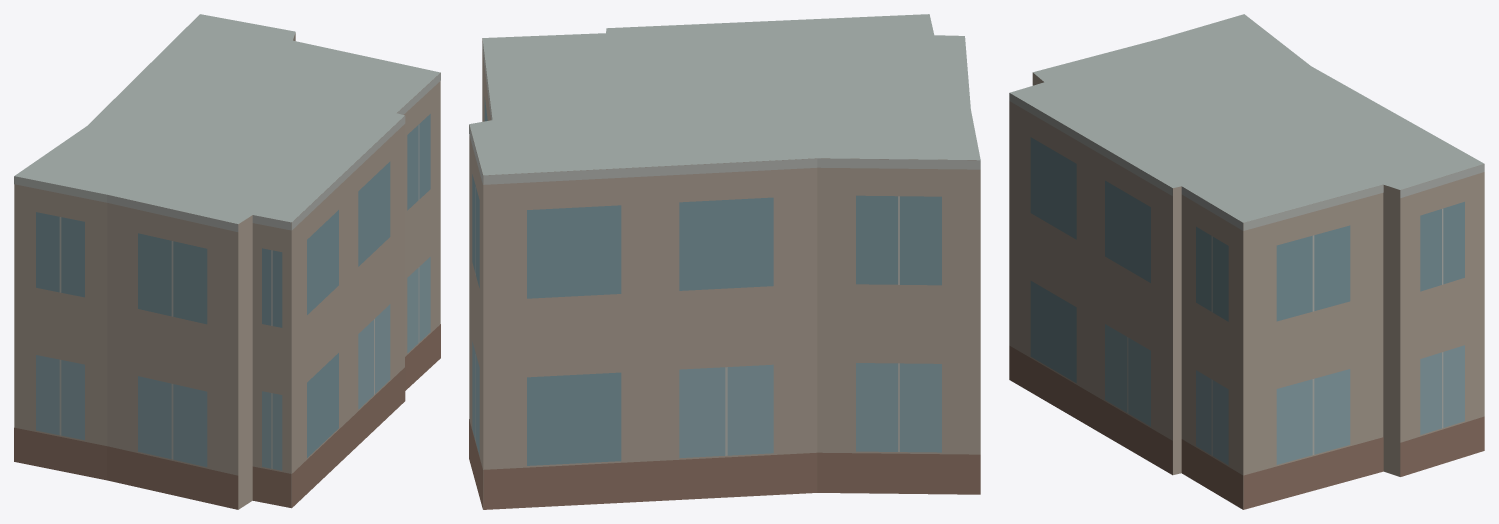
The model's file is survey-upis-32936544.glb.
3 renders of one model, left to right at view 1: azimuth 30°, elevation 25°; view 2: azimuth 150°, elevation 25°; view 3: azimuth 270°, elevation 25°, orthographic. The views are drawn at different scales.
Visible parts, largest first — view 1: survey-upis-32936544.tmp; view 2: survey-upis-32936544.tmp; view 3: survey-upis-32936544.tmp.
Part boxes in pixels (left/top/right/bottom): survey-upis-32936544.tmp: left=14, top=14, right=440, bottom=509; survey-upis-32936544.tmp: left=469, top=14, right=980, bottom=509; survey-upis-32936544.tmp: left=1009, top=14, right=1484, bottom=509.
Size of the model in its own units: 13.43 by 8.6 by 12.92.
